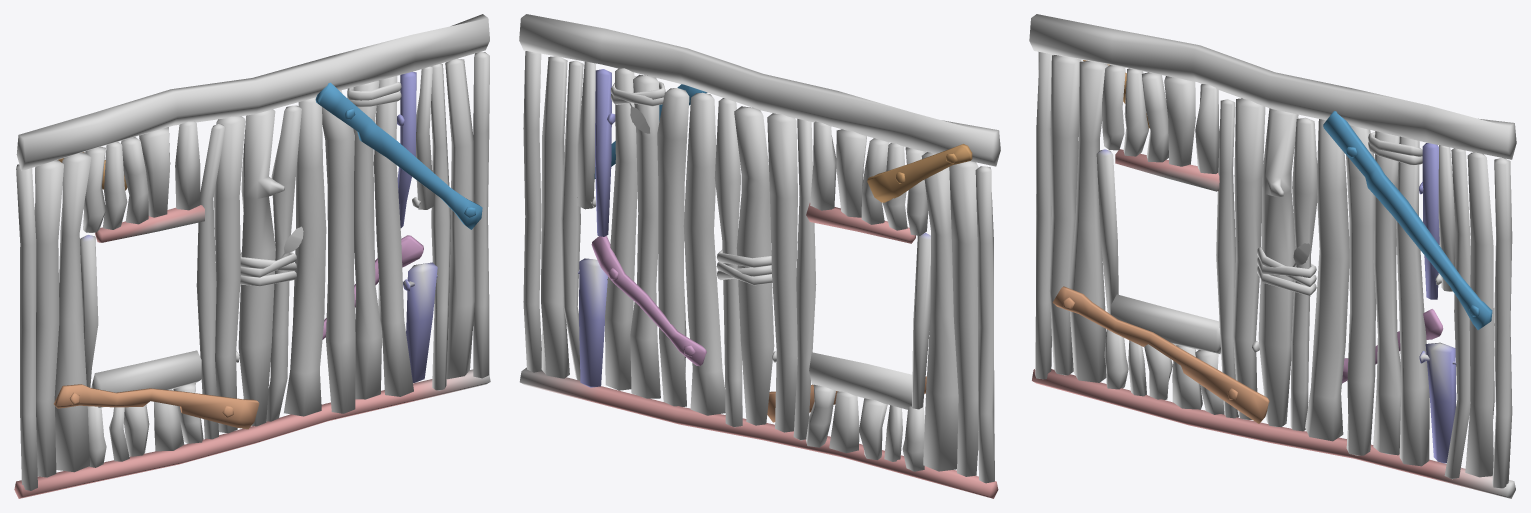
File: PBW_W1_WindowSide.glb
3 views of the same model, side by side, from view 1: azimuth 30°, elevation 25°; view 2: azimuth 150°, elevation 25°; view 3: azimuth 330°, elevation 25° (orthographic).
Parts seen in each view (by area): view 1: PBW_W1_WindowSide; view 2: PBW_W1_WindowSide; view 3: PBW_W1_WindowSide.
Part boxes in pixels (bbox=[...]): PBW_W1_WindowSide: bbox=[14, 14, 490, 498]; PBW_W1_WindowSide: bbox=[519, 14, 1000, 498]; PBW_W1_WindowSide: bbox=[1029, 14, 1516, 498].
Size of the model in its own units: 5.12 by 3.88 by 0.4804.
